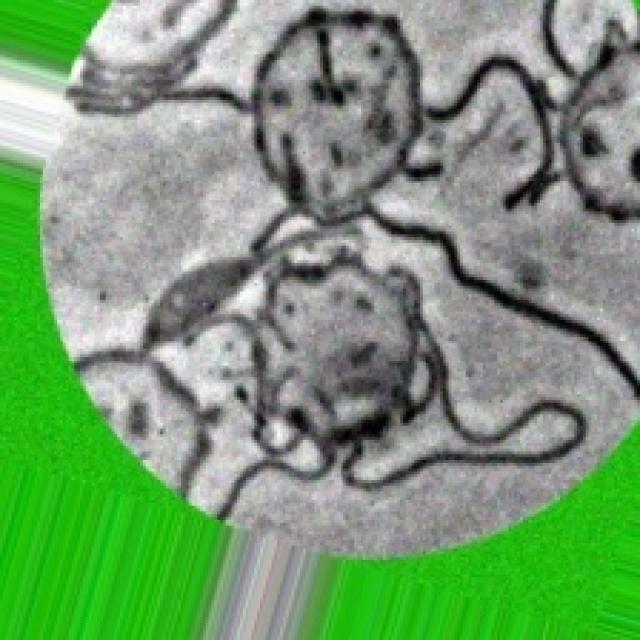Spiral_bacteria: (51, 0, 637, 534)
